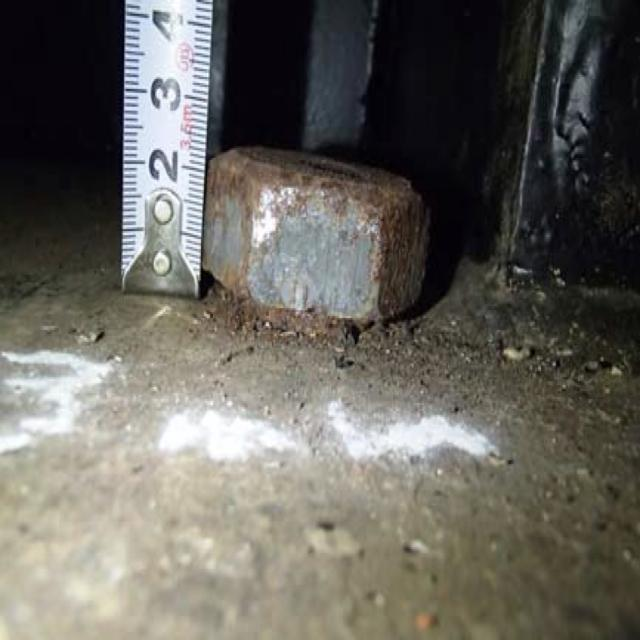corrosion: (193, 118, 437, 352)
